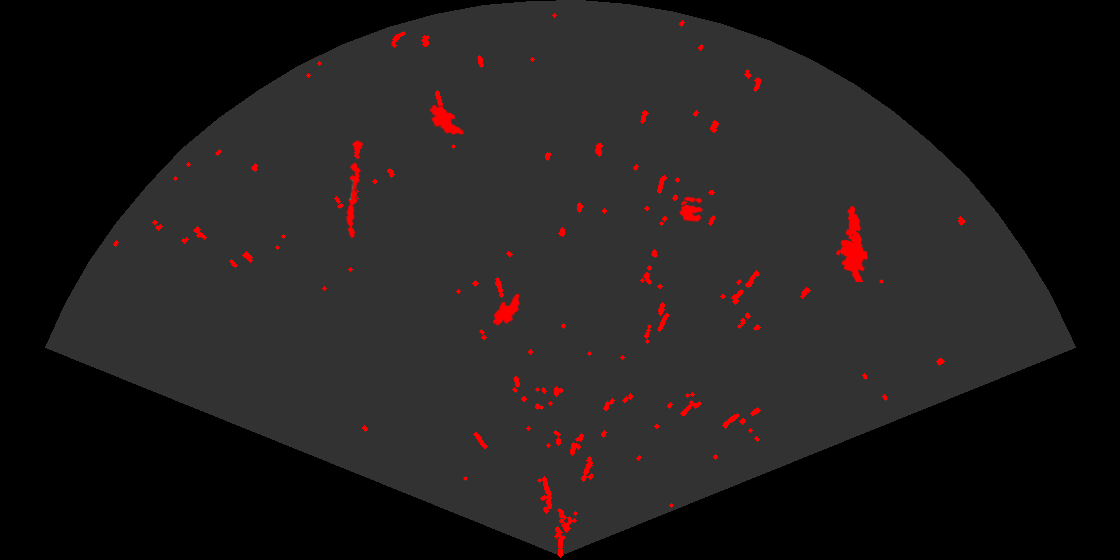AUV: (428, 103, 466, 137), (491, 292, 522, 327)
ball: (678, 195, 704, 223)
chain: (344, 138, 365, 239)
frogman: (834, 204, 869, 282)
